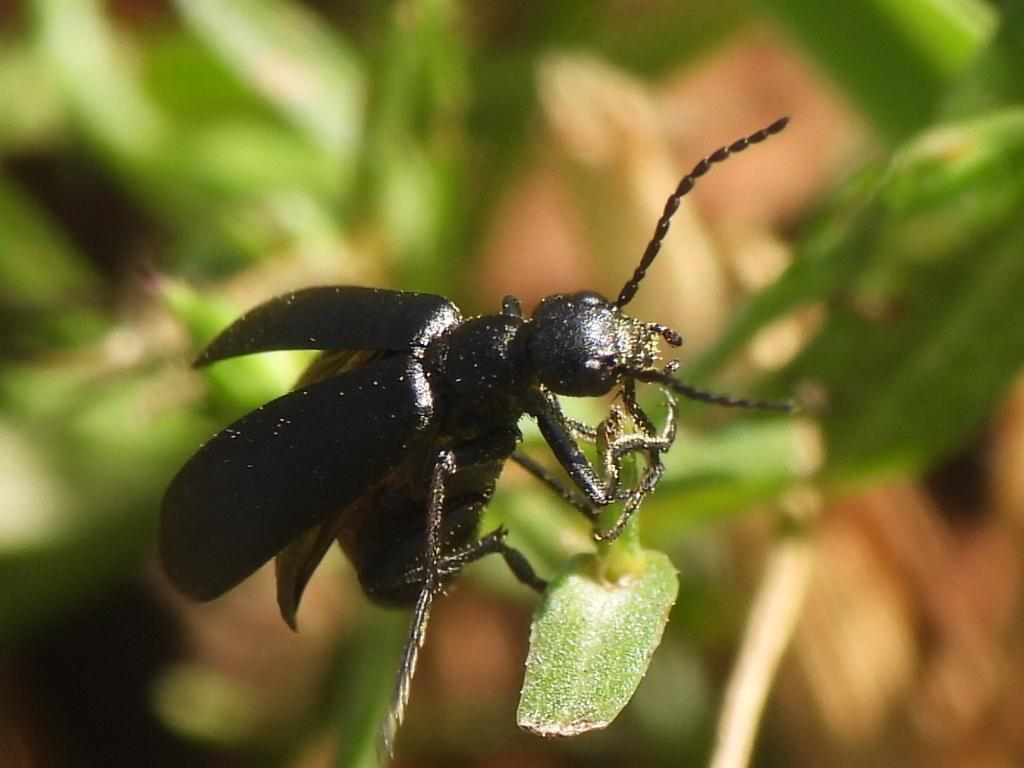blister_beetle: (16, 58, 979, 768)
